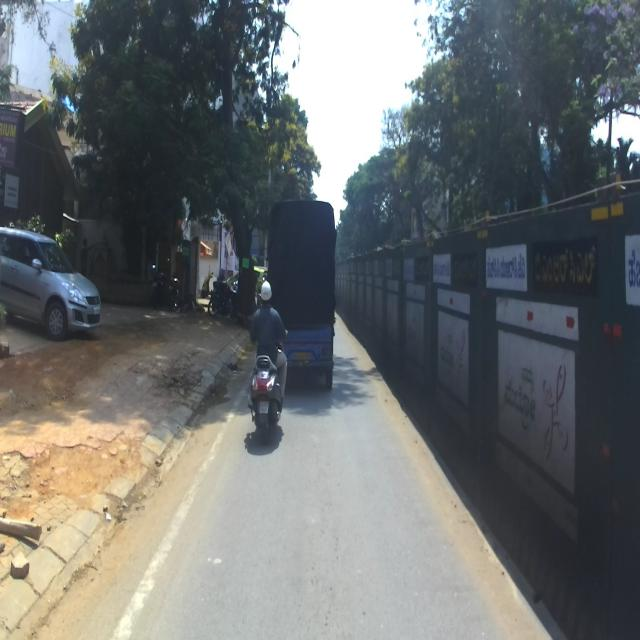Car_Maruti-Suzuki: (0, 226, 101, 342)
scooter: (247, 332, 288, 445)
truck: (265, 196, 339, 402)
